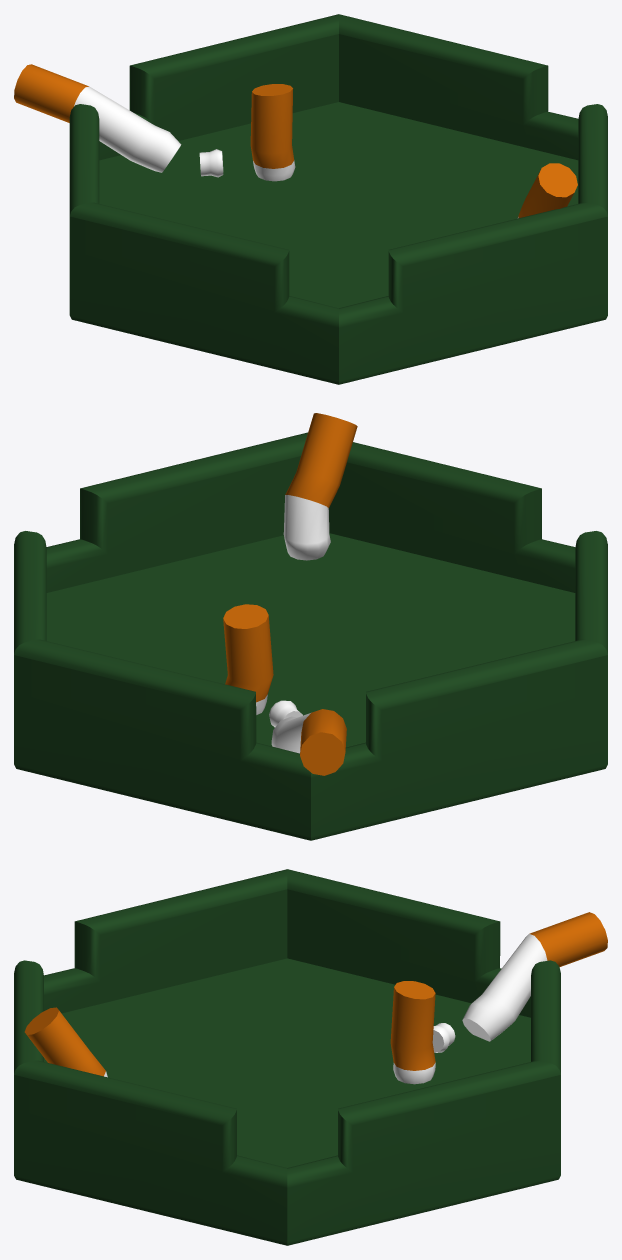
File: SM_Cendrier.fbx
3 views of the same model, one above another, from view 1: azimuth 30°, elevation 25°; view 2: azimuth 150°, elevation 25°; view 3: azimuth 270°, elevation 25° (orthographic). The views are drawn at different scales.
Parts seen in each view (by area): view 1: pCylinder12; view 2: pCylinder12; view 3: pCylinder12.
Boxes of the visible parts, left/top/right/bottom form: pCylinder12: left=14, top=14, right=607, bottom=384; pCylinder12: left=14, top=413, right=607, bottom=840; pCylinder12: left=14, top=869, right=607, bottom=1245.
Bounding box in the file's own units: 30 × 8.06 × 28.22.
